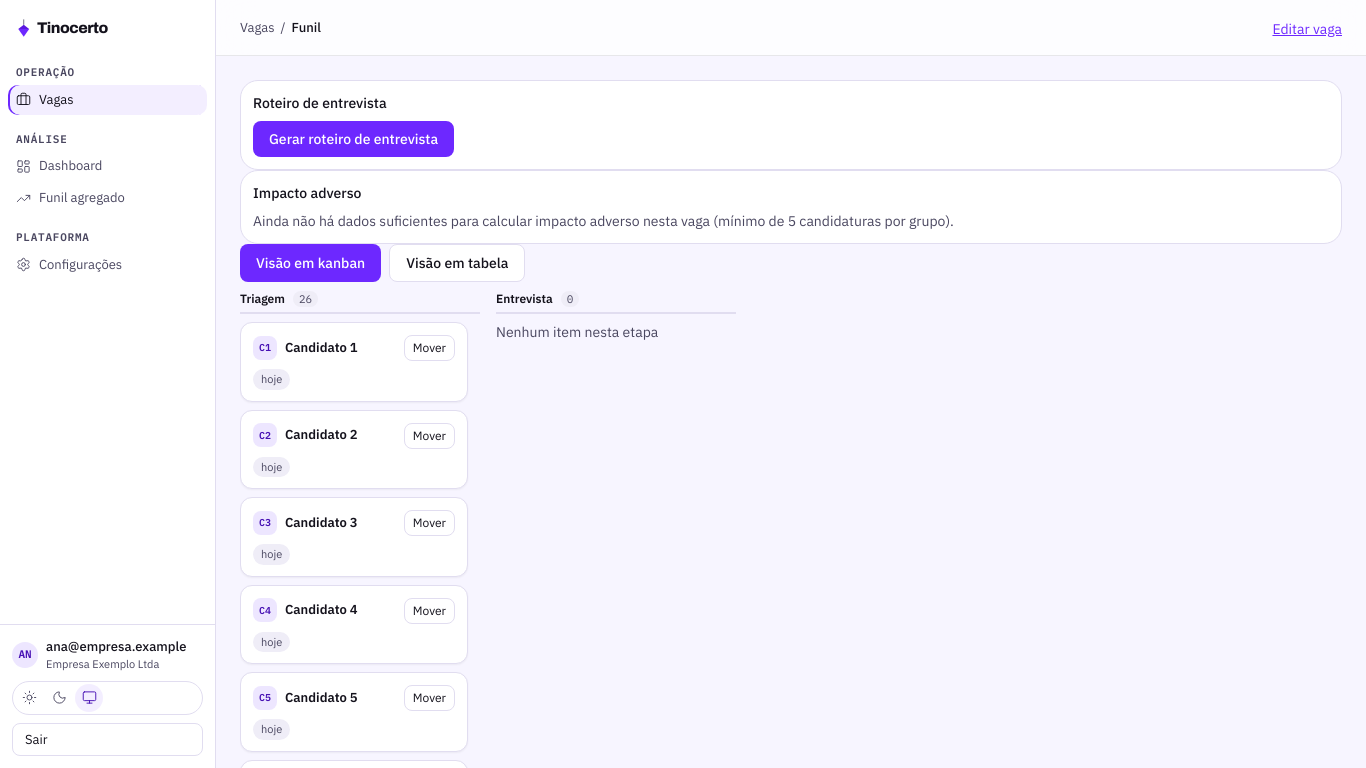
FunilPage › página corrente é reduzida quando um refetch encolhe o total de páginas (achado F7)
Expected: the link "Candidato 1" is shown, left=285, top=339, right=358, bottom=356
Click the button "Visão em tabela": (457, 263) left=389, top=244, right=525, bottom=282
(page scrolled)
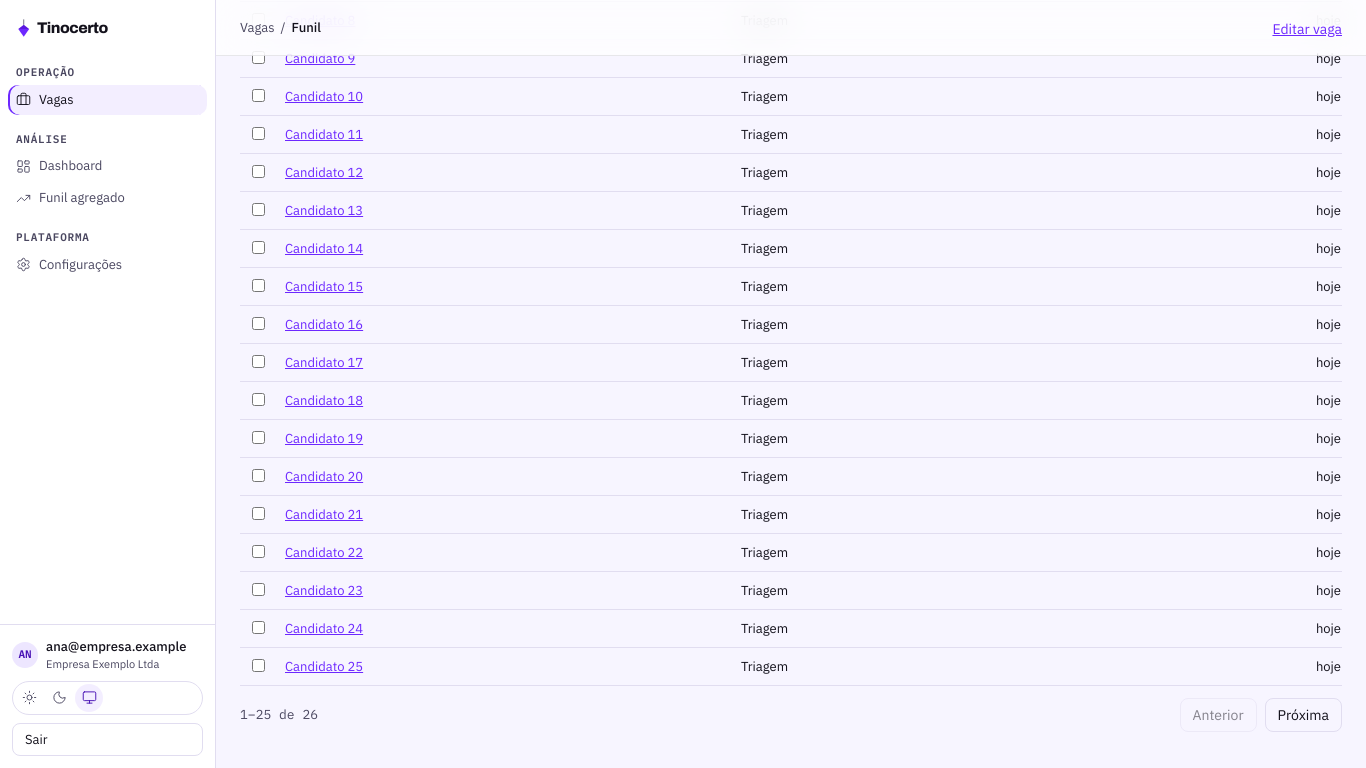
# Vai pra página 2, onde só o 26º candidato aparece (25 por página).
Click the button "Próxima": (1303, 715) left=1265, top=698, right=1342, bottom=732
(page scrolled)
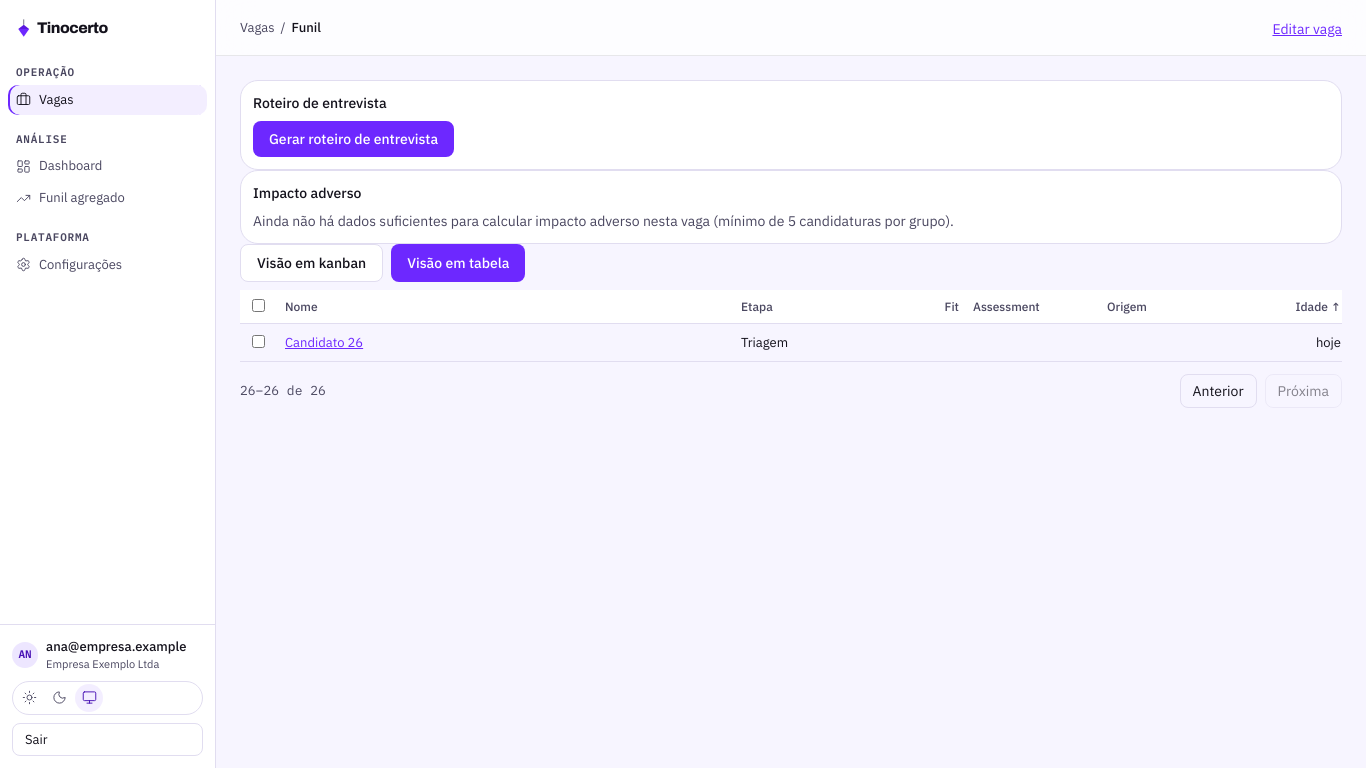
Expected: the button "Anterior" is enabled, left=1180, top=374, right=1257, bottom=408
Expected: the link "Candidato 26" is shown, left=285, top=334, right=363, bottom=350
Click the checkbox named "Selecionar linha Candidato 26": (258, 341) left=252, top=334, right=265, bottom=348
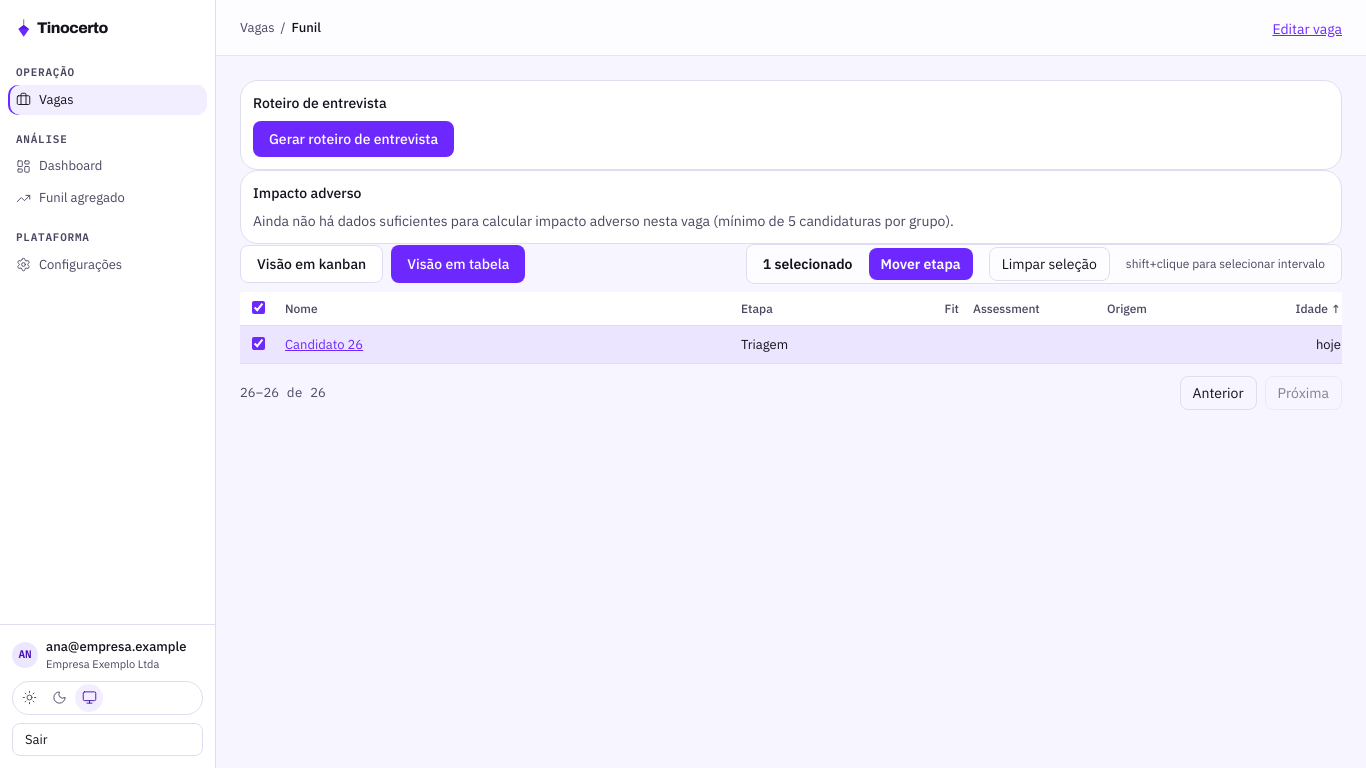
Click the button "Mover etapa": (921, 264) left=868, top=248, right=973, bottom=280
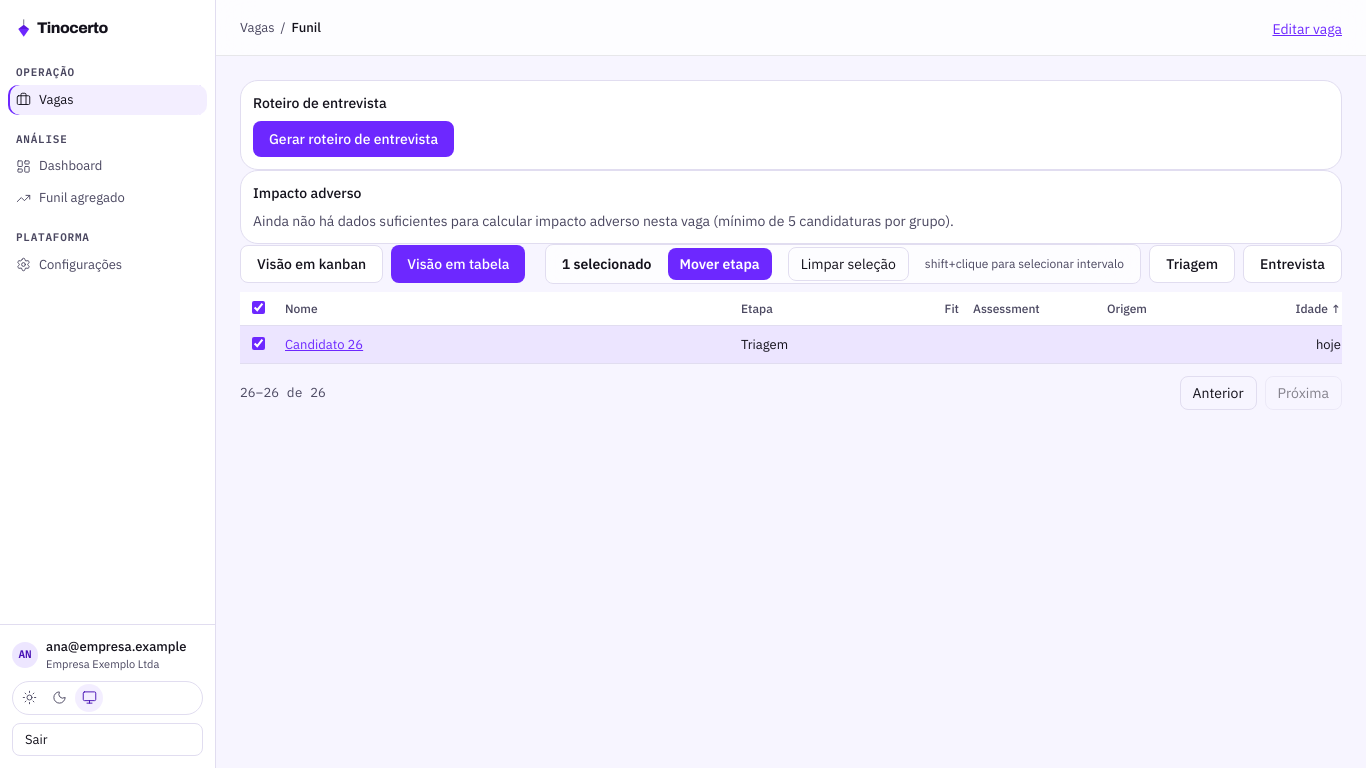
Click the button "Entrevista": (1292, 264) left=1243, top=245, right=1342, bottom=283
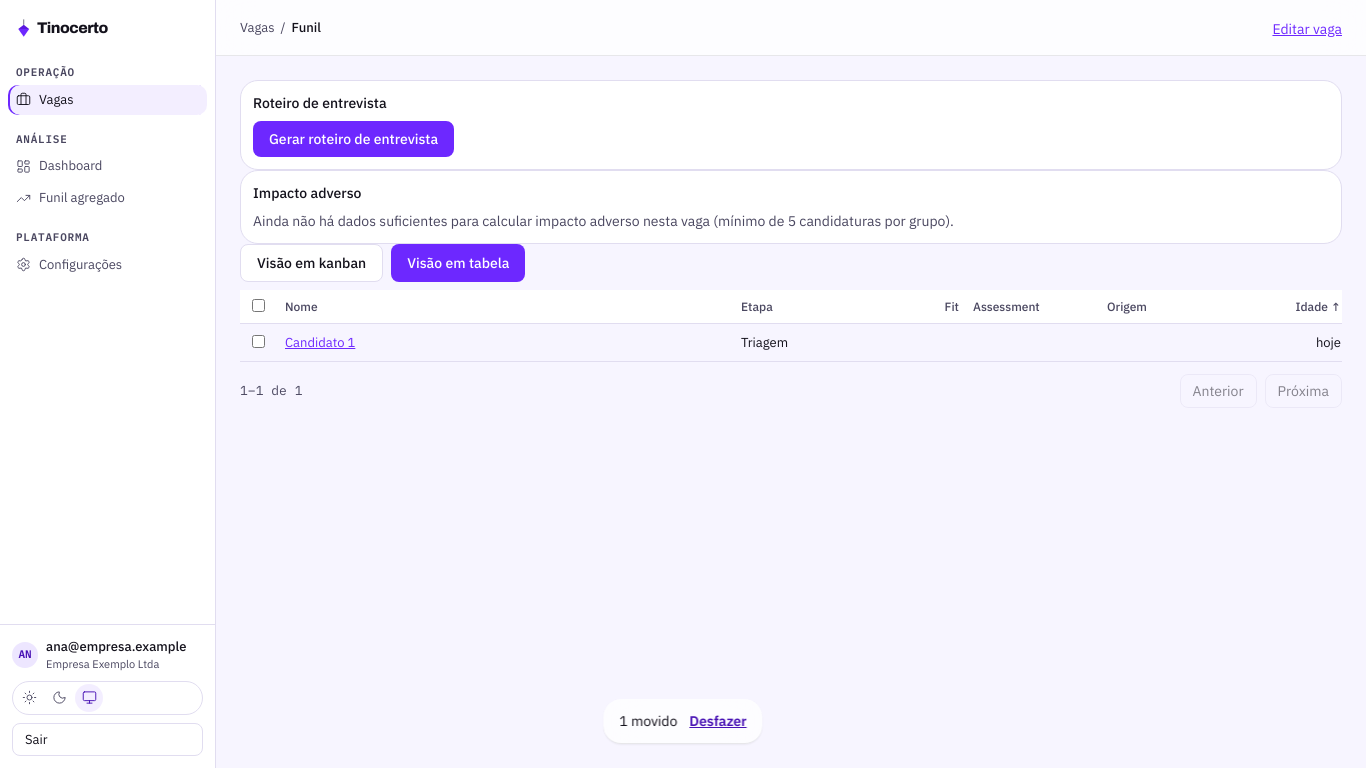
Expected: the button "Anterior" is disabled, left=1180, top=374, right=1257, bottom=408
